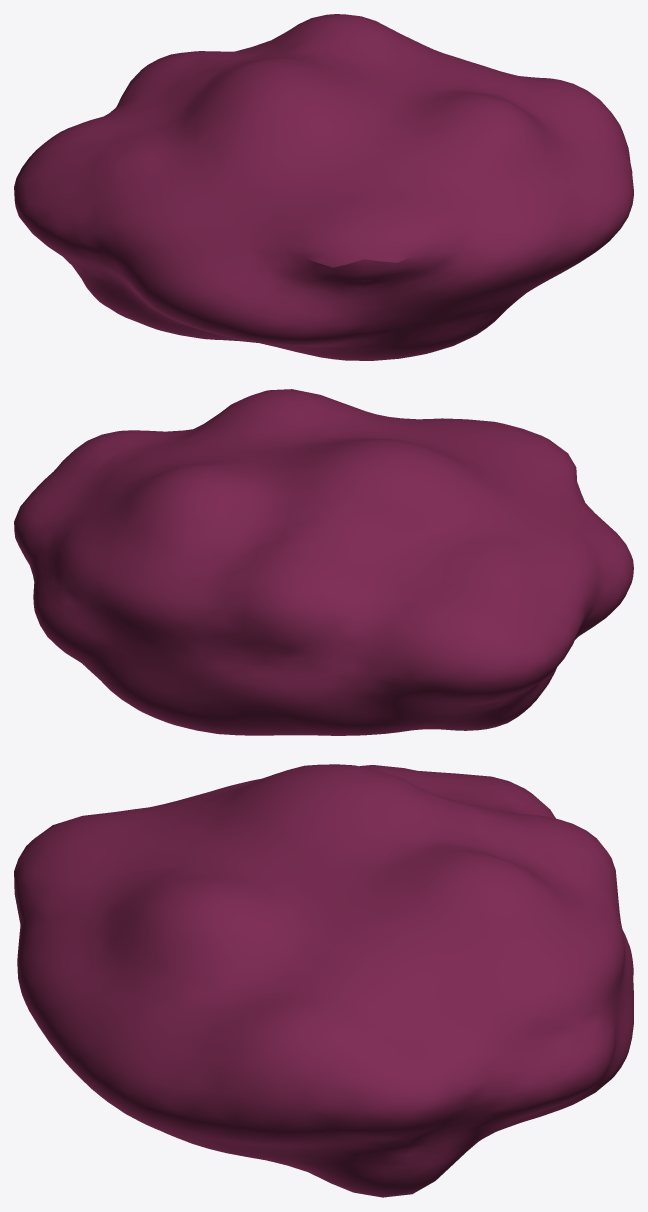
File: Smog.glb
3 renders of one model, top to bottom at view 1: azimuth 30°, elevation 25°; view 2: azimuth 150°, elevation 25°; view 3: azimuth 270°, elevation 25°, orthographic. The views are drawn at different scales.
Parts seen in each view (by area): view 1: Smog; view 2: Smog; view 3: Smog.
Boxes of the visible parts, x1,y1,x2,y2 form: Smog: (14, 14, 633, 360); Smog: (14, 389, 633, 735); Smog: (14, 764, 633, 1197).
Bounding box in the file's own units: 4.13 × 1.82 × 3.47.
